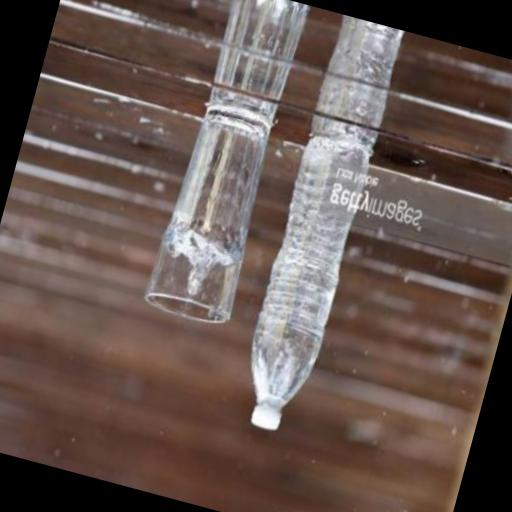Coca: (220, 117, 382, 450)
